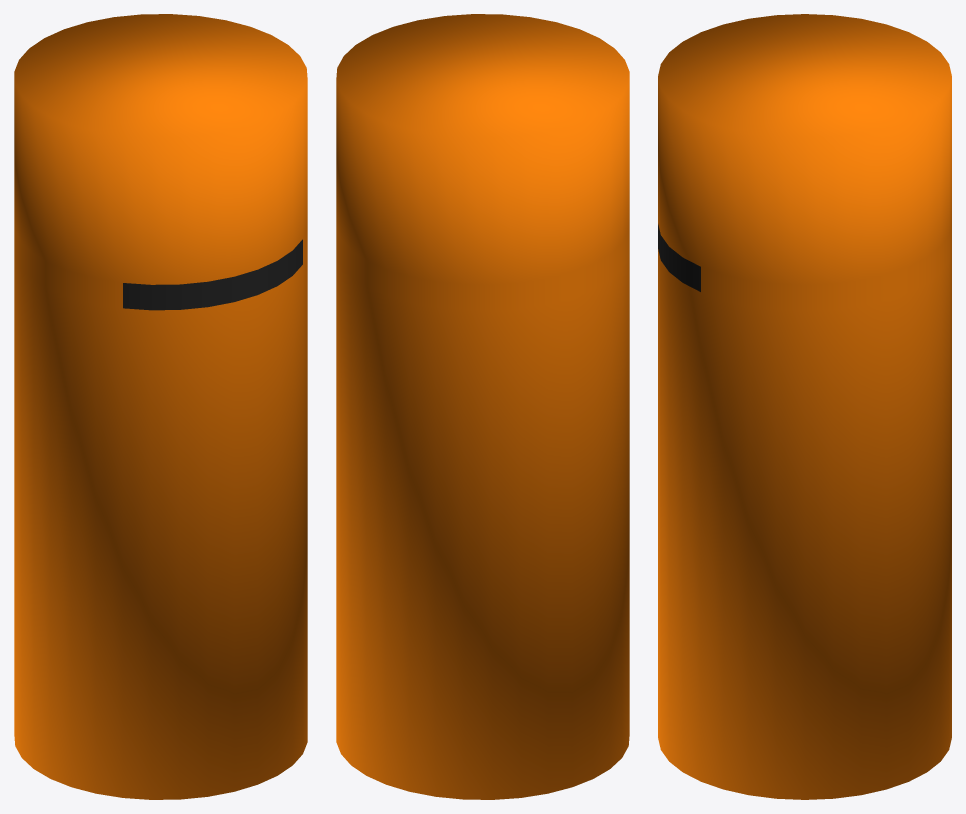
The model's file is post_box.glb.
3 views of the same model, side by side, from view 1: azimuth 30°, elevation 25°; view 2: azimuth 150°, elevation 25°; view 3: azimuth 270°, elevation 25° (orthographic).
Visible parts, largest first — view 1: Cylinder; view 2: Cylinder; view 3: Cylinder.
Part boxes in pixels (<box>): Cylinder: <box>14,14,307,799</box>; Cylinder: <box>336,14,629,799</box>; Cylinder: <box>658,14,951,799</box>.
Size of the model in its own units: 1.03 by 2.56 by 1.03.
